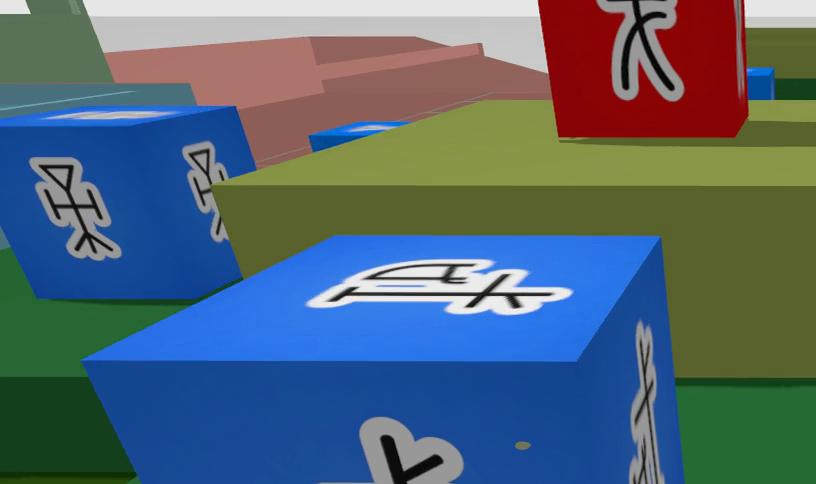KFS_FAKE: (537, 0, 753, 143), (596, 0, 682, 101), (734, 0, 745, 98)
KFS_REAL: (79, 231, 689, 484), (1, 100, 258, 304), (321, 254, 570, 320), (30, 157, 121, 260), (324, 419, 468, 484), (617, 325, 670, 484), (182, 142, 227, 241), (307, 113, 415, 149), (747, 66, 780, 103), (49, 111, 177, 119)
